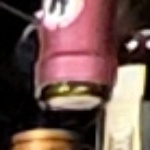bottle: (21, 41, 131, 133)
